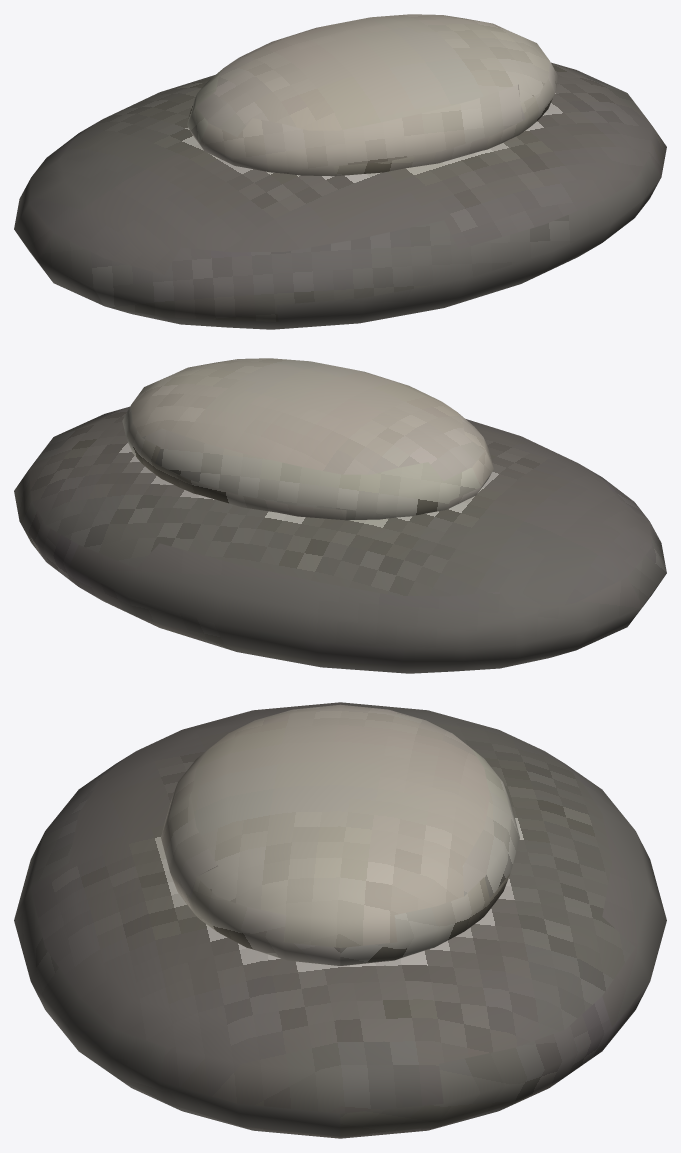
File: pellet_kaki.glb
The picture shows the model from 3 angles, top to bottom: view 1: azimuth 30°, elevation 25°; view 2: azimuth 150°, elevation 25°; view 3: azimuth 270°, elevation 25°; orthographic projection. The views are drawn at different scales.
Parts seen in each view (by area): view 1: prop_pellet_kaki_felt; view 2: prop_pellet_kaki_felt; view 3: prop_pellet_kaki_felt.
Part boxes in pixels (<box>): prop_pellet_kaki_felt: <box>14,14,666,329</box>; prop_pellet_kaki_felt: <box>14,358,666,673</box>; prop_pellet_kaki_felt: <box>14,702,666,1138</box>.
Bounding box in the file's own units: 0.084 × 0.0285 × 0.06.
Materials: 1 (1 with a texture image).
